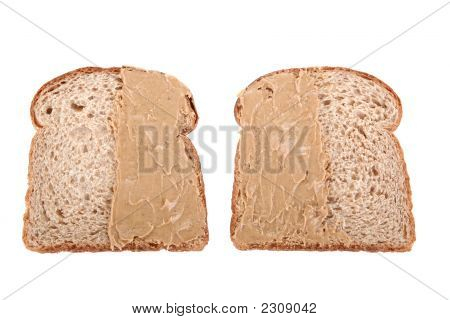slice of bread: (229, 72, 419, 258)
